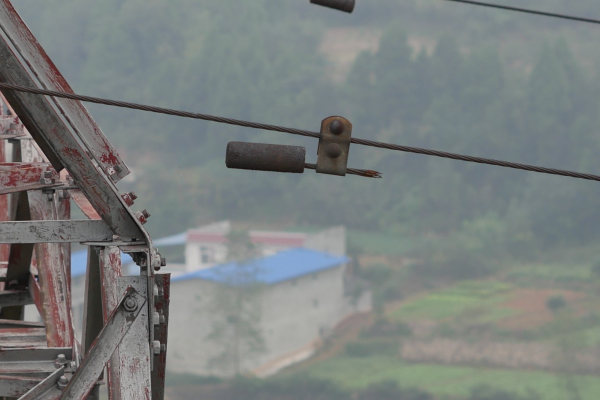damper_defect: (220, 111, 386, 182)
